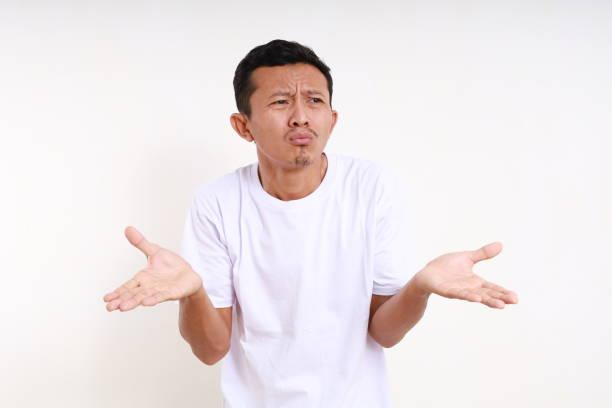Human: (132, 9, 506, 408)
